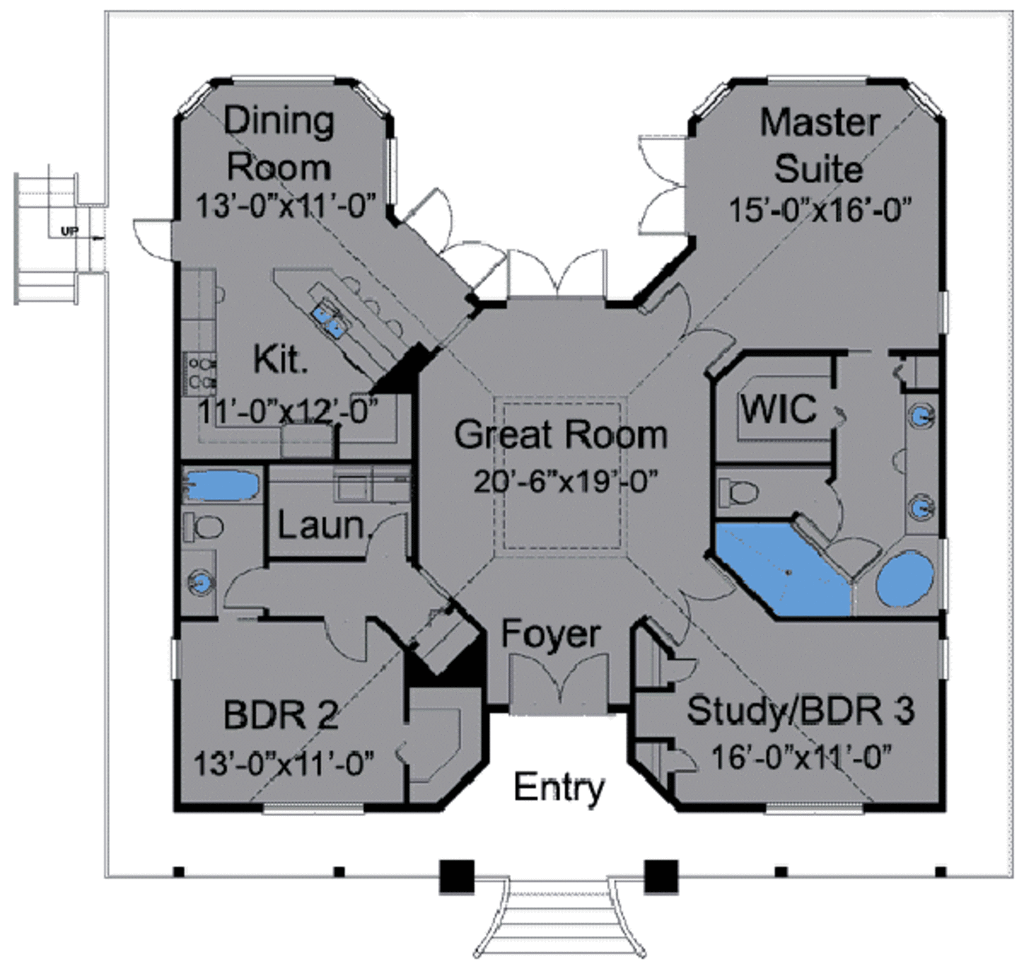door: (401, 186, 507, 291), (652, 274, 741, 365), (506, 646, 609, 711), (636, 130, 693, 244), (655, 560, 731, 644), (499, 248, 617, 301), (318, 615, 371, 666), (820, 537, 877, 580), (220, 562, 271, 610), (361, 513, 410, 560), (806, 484, 843, 543), (128, 218, 175, 262)
large_sink: (715, 472, 767, 514), (179, 509, 229, 550)
small_sink: (905, 396, 950, 535)
stairs: (477, 872, 653, 962)
tub: (871, 548, 936, 616), (182, 464, 261, 502)
windows: (759, 69, 873, 95), (763, 799, 873, 819), (262, 800, 371, 816), (226, 76, 340, 89)
